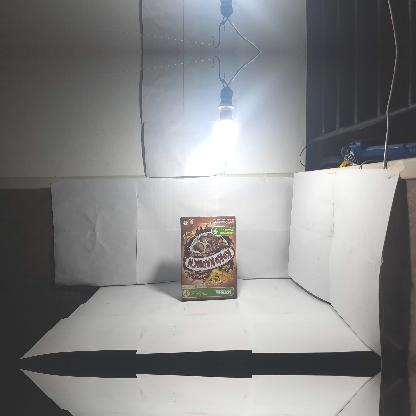Koko-Krunch: (180, 215, 238, 301)
